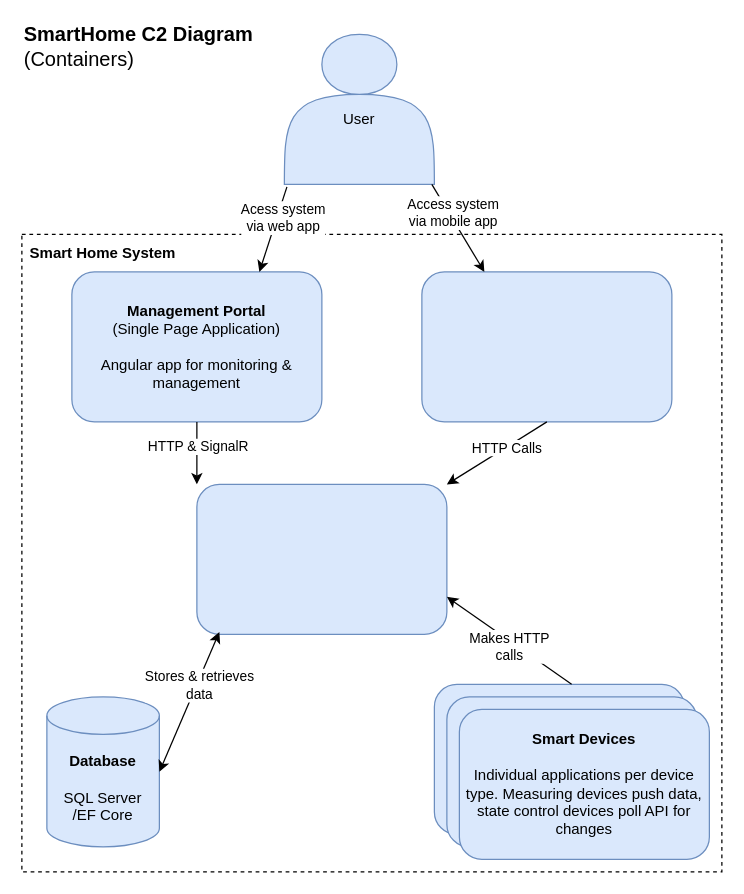
Some shapes in this 744 by 894 pixel diagram are drawn without their labels. The shapes that lost their labels are listed below. From the top down, each one's box as (x1, y1, x2, y2) in pixels, then its label:
(421, 271, 672, 422): Android App Mobile app based on SPA, also handles push notifications
(196, 483, 447, 634): API Application Central management for the entire system, HTTP API + event bus
